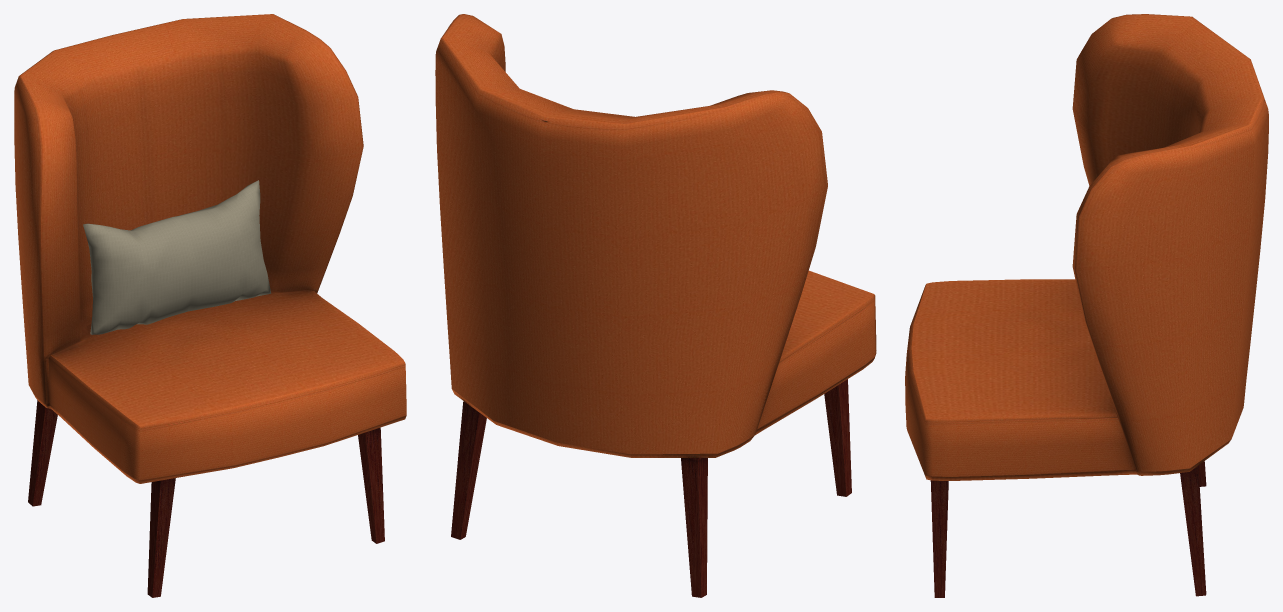
Rendered from Chair02.fbx.
3 views of the same model, side by side, from view 1: azimuth 30°, elevation 25°; view 2: azimuth 150°, elevation 25°; view 3: azimuth 270°, elevation 25° (orthographic). The views are drawn at different scales.
Visible parts, largest first — view 1: Back_Sofa.edited.002; view 2: Back_Sofa.edited.002; view 3: Back_Sofa.edited.002.
Boxes of the visible parts, x1,y1,x2,y2 form: Back_Sofa.edited.002: [14, 14, 406, 597]; Back_Sofa.edited.002: [435, 14, 876, 597]; Back_Sofa.edited.002: [905, 14, 1268, 597].
Bounding box in the file's own units: 0.842 × 1.08 × 0.777.
